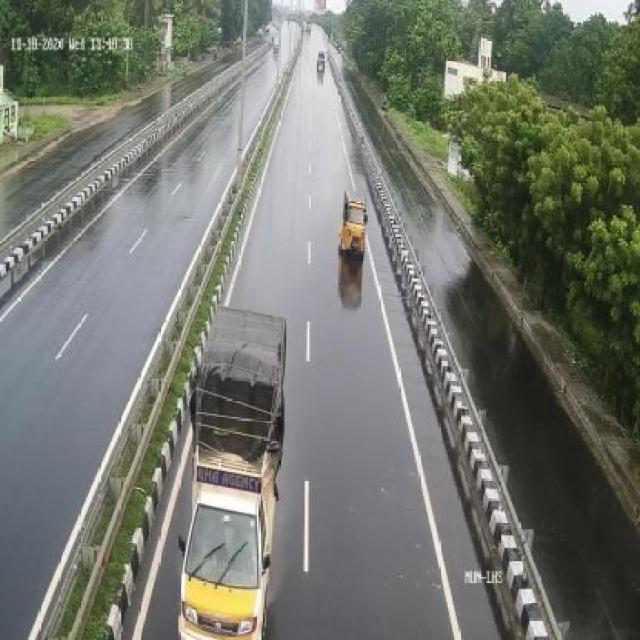car: (338, 183, 371, 282)
